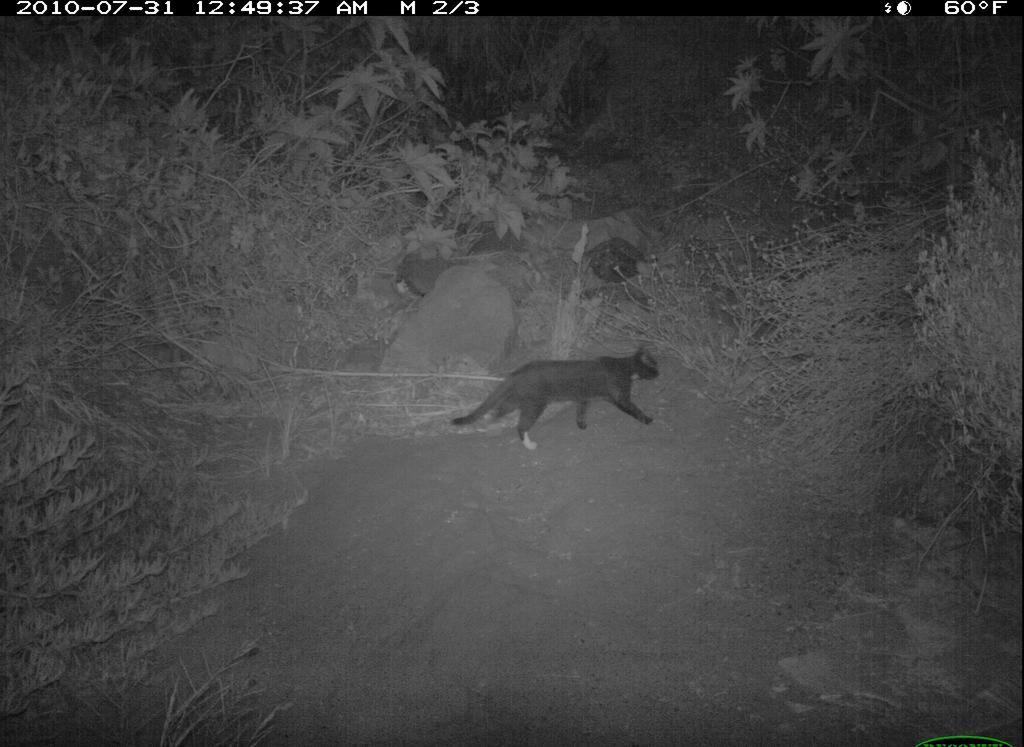cat: (449, 338, 670, 457)
